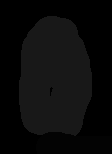fp: (15, 12, 91, 137)
